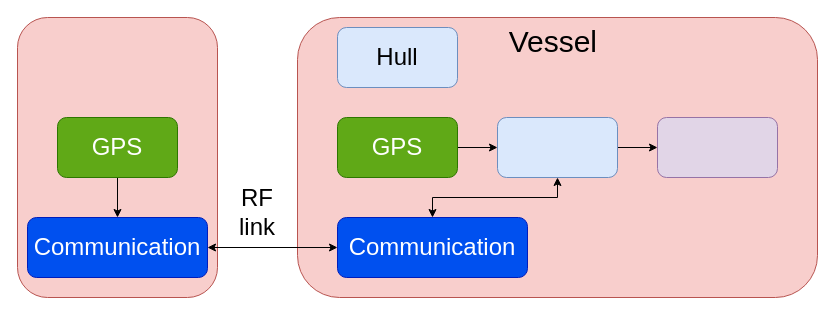
Image size: 835x315. Some labels were removed from this diagram. Each missing label, with the box of its shape:
Mind: (496, 116, 618, 178)
Swimmer: (16, 16, 218, 298)
Thrust Control: (656, 116, 778, 178)
